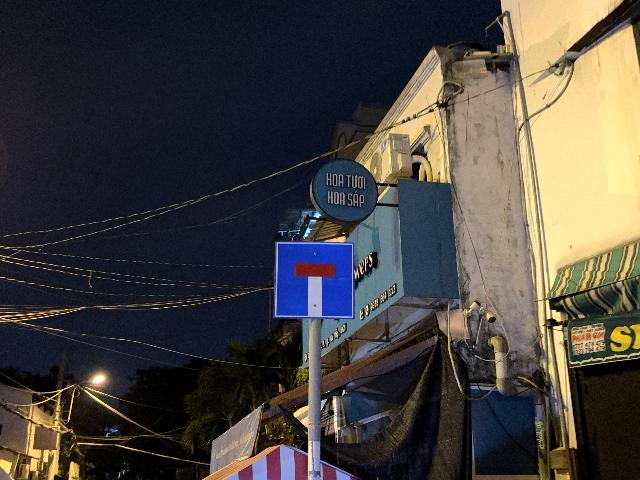duong-cut: (274, 240, 355, 319)
